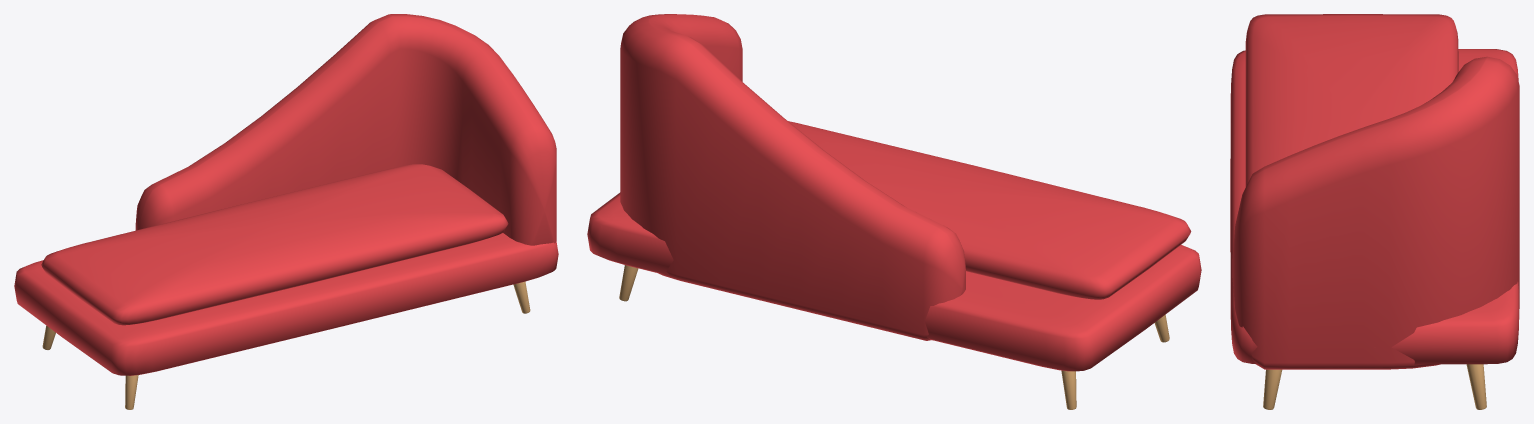
Rendered from chaise_longue_vermelha.glb.
The picture shows the model from 3 angles, left to right: view 1: azimuth 30°, elevation 25°; view 2: azimuth 150°, elevation 25°; view 3: azimuth 270°, elevation 25°; orthographic projection. The views are drawn at different scales.
Parts seen in each view (by area): view 1: chaise_longue_vermelha; view 2: chaise_longue_vermelha; view 3: chaise_longue_vermelha.
Boxes of the visible parts, left/top/right/bottom form: chaise_longue_vermelha: left=14, top=14, right=558, bottom=409; chaise_longue_vermelha: left=587, top=14, right=1201, bottom=409; chaise_longue_vermelha: left=1230, top=14, right=1519, bottom=409.
Size of the model in its own units: 1.75 by 0.9206 by 0.76.
1 material, 1 textured.
